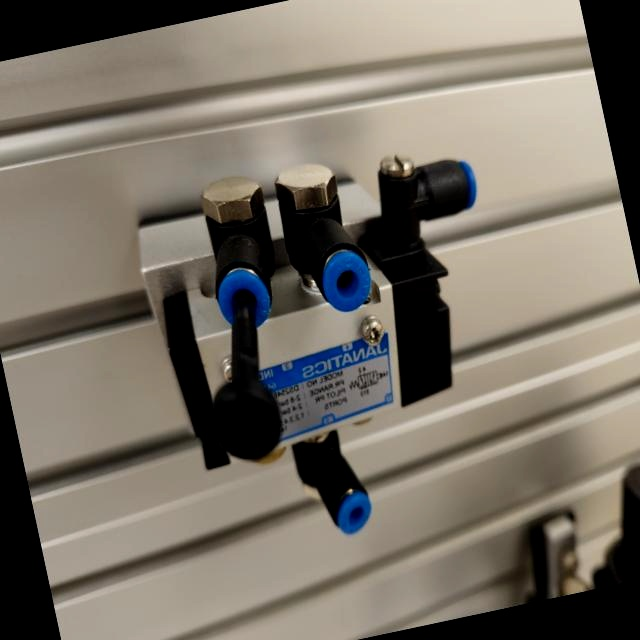5by2 DCV: (105, 117, 550, 577)
